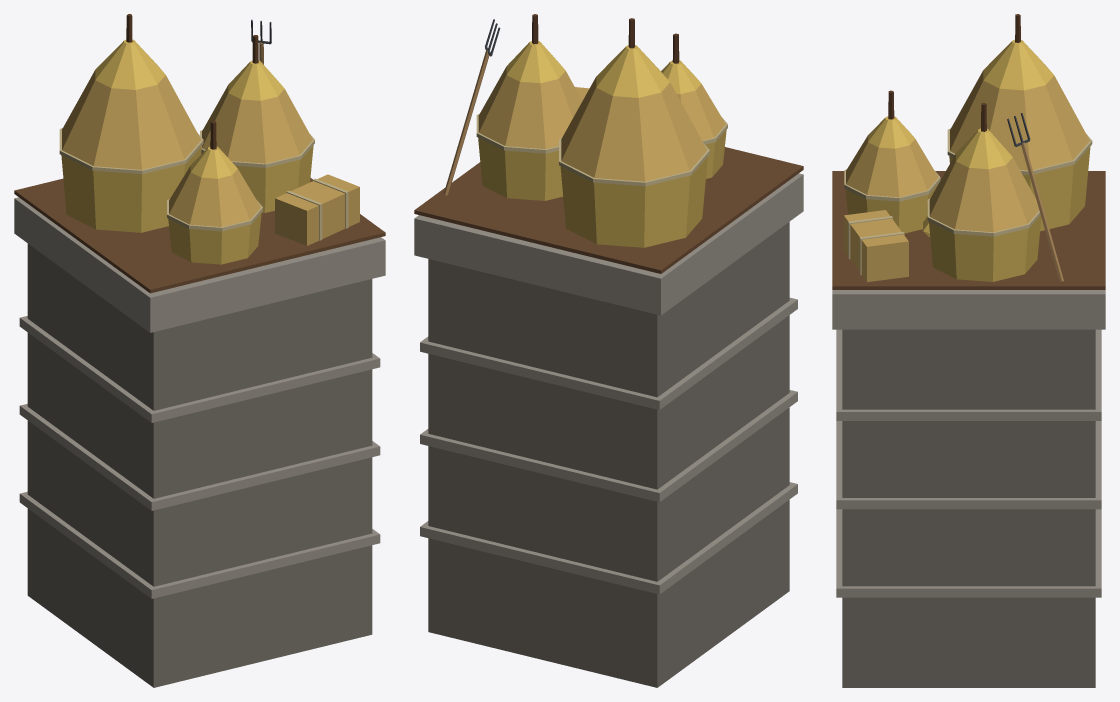
The model's file is decor_haystacks.glb.
3 renders of one model, left to right at view 1: azimuth 30°, elevation 25°; view 2: azimuth 150°, elevation 25°; view 3: azimuth 270°, elevation 25°, orthographic. The views are drawn at different scales.
Parts seen in each view (by area): view 1: decor_haystacks; view 2: decor_haystacks; view 3: decor_haystacks.
Boxes of the visible parts, x1,y1,x2,y2 form: decor_haystacks: (14,14,385,687); decor_haystacks: (414,14,803,687); decor_haystacks: (832,14,1105,687).
Bounding box in the file's own units: 2.8 × 6.75 × 2.8.
